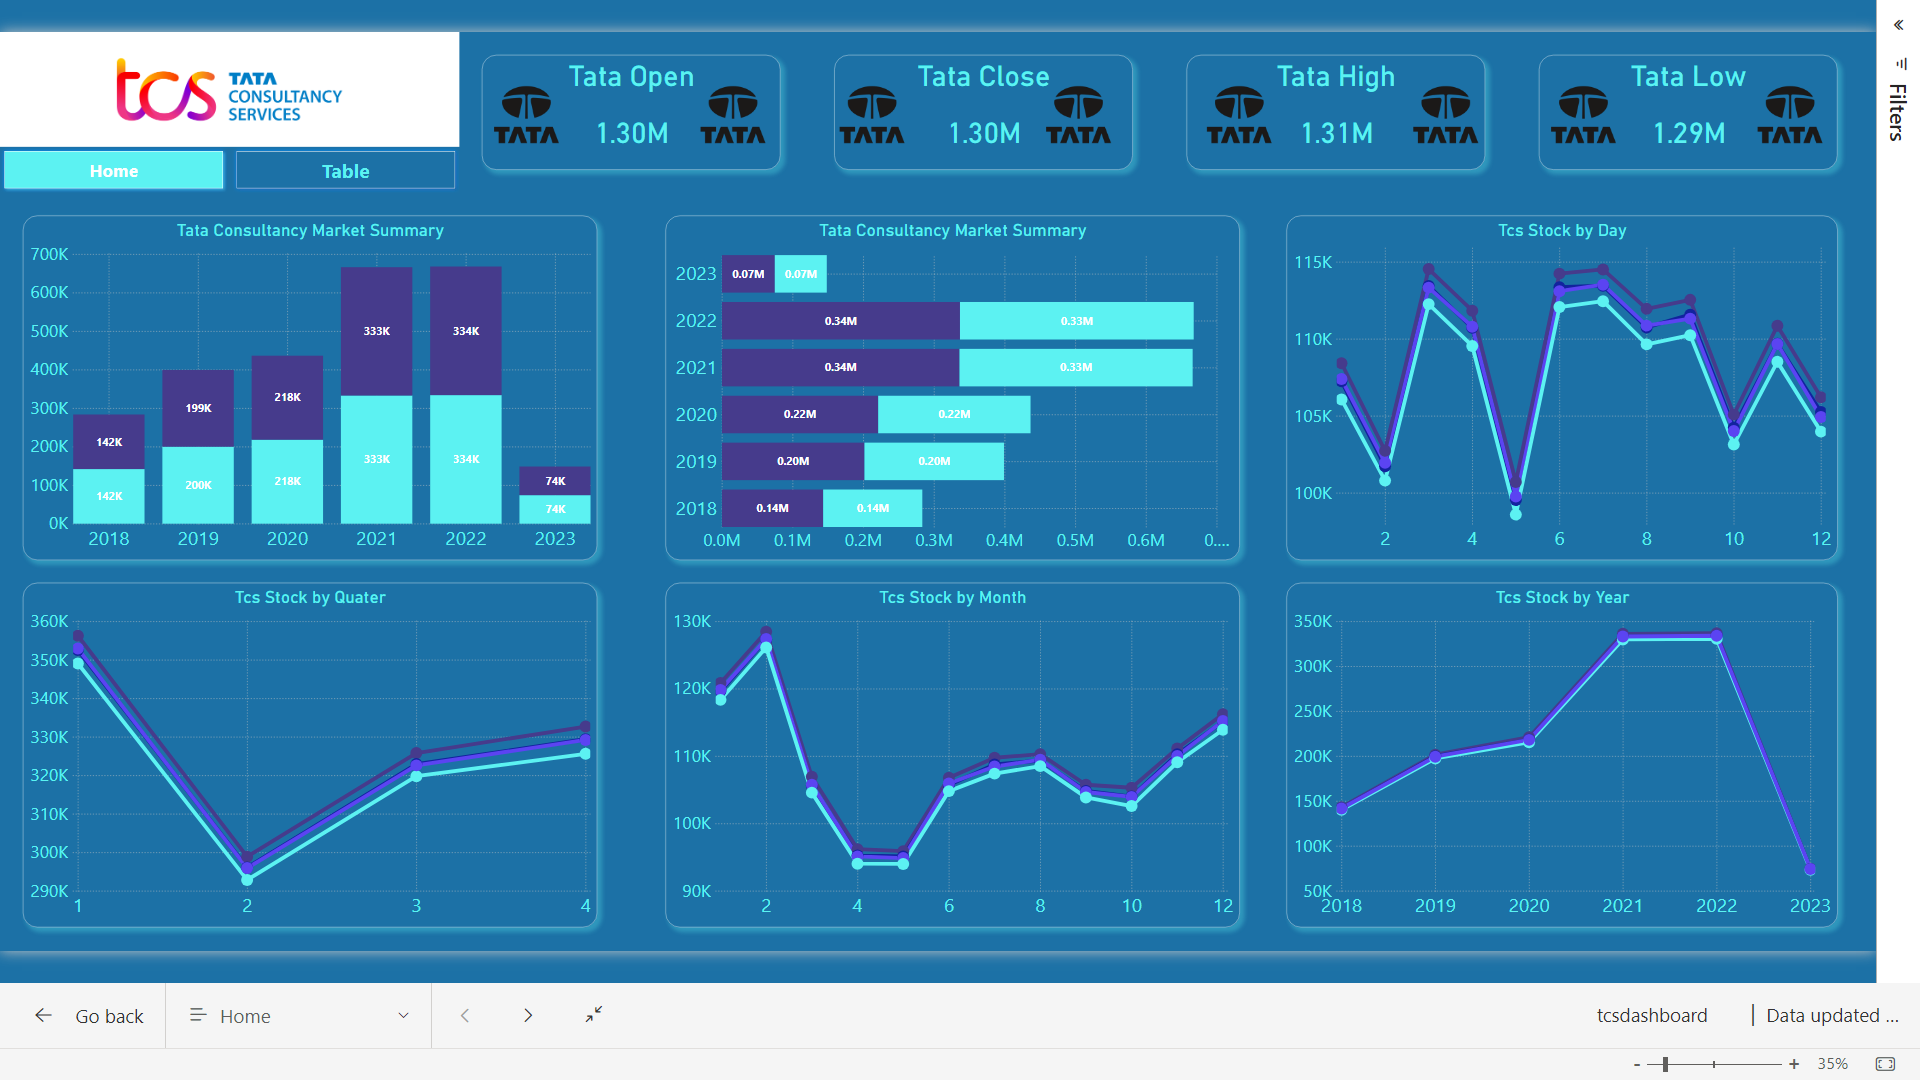

Layout of this report page (visuals, bound fields, positions):
{"tool":"powerbi","page":{"name":"Home","canvas":[3920,1920],"ordinal":0},"visuals":[{"type":"image","box":[0,0,960,240],"z":0},{"type":"card","title":"Tata Open","fields":{"Values":["Sum(TCS NS.Tata Open)"]},"box":[1008,48,624,240],"z":1000},{"type":"card","title":"Tata High","fields":{"Values":["Sum(TCS NS.Tata High)"]},"box":[2480,48,624,240],"z":2000},{"type":"card","title":"Tata Close","fields":{"Values":["Sum(TCS NS.Tata Close)"]},"box":[1744,48,624,240],"z":3000},{"type":"card","title":"Tata Low","fields":{"Values":["Sum(TCS NS.Tata Low)"]},"box":[3216,48,624,240],"z":4000},{"type":"image","box":[1008,48,192,240],"z":5000},{"type":"image","box":[1728,48,192,240],"z":6000},{"type":"image","box":[2496,48,192,240],"z":7000},{"type":"image","box":[3216,48,192,240],"z":8000},{"type":"image","box":[1440,48,192,240],"z":9000},{"type":"image","box":[2160,48,192,240],"z":10000},{"type":"image","box":[2928,48,192,240],"z":11000},{"type":"image","box":[3648,48,192,240],"z":12000},{"type":"columnChart","title":"Tata Consultancy Market Summary","fields":{"Category":["TCS NS.Year"],"Y":["Sum(TCS NS.Tata Open)","Sum(TCS NS.Tata Close)"]},"box":[48,384,1200,720],"z":13000},{"type":"barChart","title":"Tata Consultancy Market Summary","fields":{"Category":["TCS NS.Year"],"Y":["Sum(TCS NS.Tata High)","Sum(TCS NS.Tata Low)"]},"box":[1392,384,1200,720],"z":14000},{"type":"lineChart","title":"Tcs Stock by Day","fields":{"Category":["TCS NS.Day"],"Y":["Sum(TCS NS.Tata Open)","Sum(TCS NS.Tata Close)","Sum(TCS NS.Tata High)","Sum(TCS NS.Tata Low)"]},"box":[2688,384,1152,720],"z":15000},{"type":"lineChart","title":"Tcs Stock by Quater ","fields":{"Y":["Sum(TCS NS.Tata High)","Sum(TCS NS.Tata Open)","Sum(TCS NS.Tata Low)","Sum(TCS NS.Tata Close)"],"Category":["TCS NS.Quater"]},"box":[48,1152,1200,720],"z":16000},{"type":"lineChart","title":"Tcs Stock by Month","fields":{"Category":["TCS NS.Month"],"Y":["Sum(TCS NS.Tata High)","Sum(TCS NS.Tata Open)","Sum(TCS NS.Tata Close)","Sum(TCS NS.Tata Low)"]},"box":[1392,1152,1200,720],"z":17000},{"type":"lineChart","title":"Tcs Stock by Year","fields":{"Category":["TCS NS.Year"],"Y":["Sum(TCS NS.Tata High)","Sum(TCS NS.Tata Open)","Sum(TCS NS.Tata Low)","Sum(TCS NS.Tata Close)"]},"box":[2688,1152,1152,720],"z":18000},{"type":"pageNavigator","box":[0,240,960,96],"z":18001}]}

Visuals, with their boxes on the page's 3920x1920 design canvas (x1, y1, x2, y2). These are canvas units, not pixel positions in the 1920x1080 screenshot, which may show the page scaled, cropped or inside an application window:
image: (x1=0, y1=0, x2=960, y2=240)
"Tata Open" card: (x1=1008, y1=48, x2=1632, y2=288)
"Tata High" card: (x1=2480, y1=48, x2=3104, y2=288)
"Tata Close" card: (x1=1744, y1=48, x2=2368, y2=288)
"Tata Low" card: (x1=3216, y1=48, x2=3840, y2=288)
image: (x1=1008, y1=48, x2=1200, y2=288)
image: (x1=1728, y1=48, x2=1920, y2=288)
image: (x1=2496, y1=48, x2=2688, y2=288)
image: (x1=3216, y1=48, x2=3408, y2=288)
image: (x1=1440, y1=48, x2=1632, y2=288)
image: (x1=2160, y1=48, x2=2352, y2=288)
image: (x1=2928, y1=48, x2=3120, y2=288)
image: (x1=3648, y1=48, x2=3840, y2=288)
"Tata Consultancy Market Summary" columnChart: (x1=48, y1=384, x2=1248, y2=1104)
"Tata Consultancy Market Summary" barChart: (x1=1392, y1=384, x2=2592, y2=1104)
"Tcs Stock by Day" lineChart: (x1=2688, y1=384, x2=3840, y2=1104)
"Tcs Stock by Quater " lineChart: (x1=48, y1=1152, x2=1248, y2=1872)
"Tcs Stock by Month" lineChart: (x1=1392, y1=1152, x2=2592, y2=1872)
"Tcs Stock by Year" lineChart: (x1=2688, y1=1152, x2=3840, y2=1872)
pageNavigator: (x1=0, y1=240, x2=960, y2=336)
